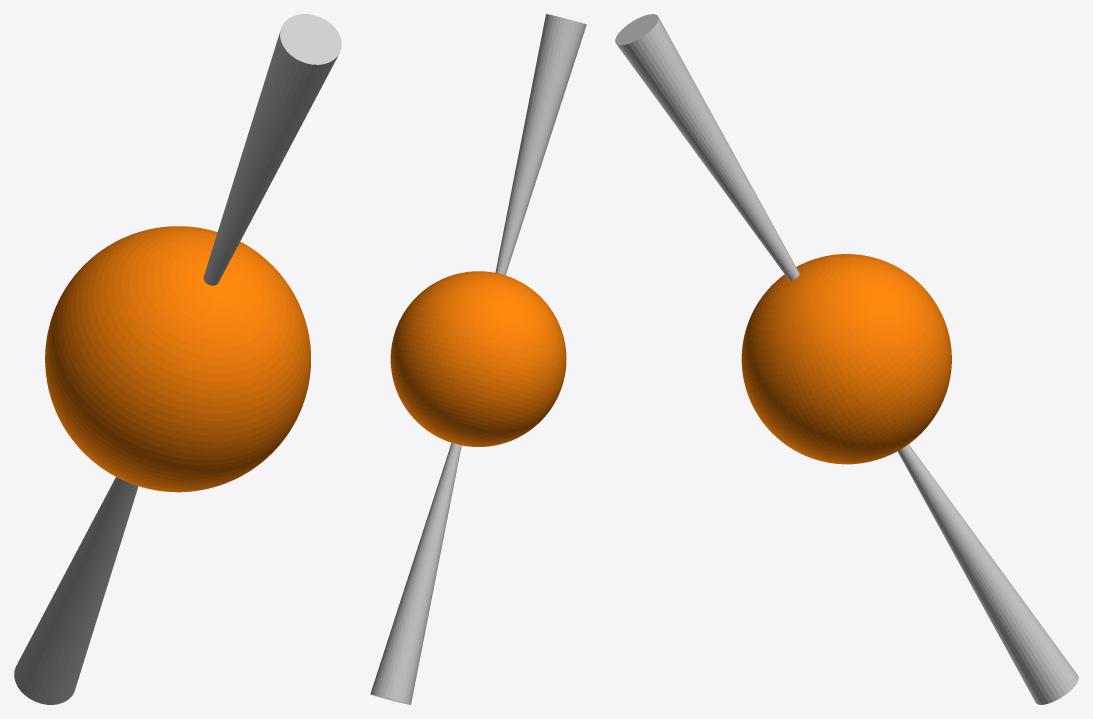
File: Pulsar Active.obj
The picture shows the model from 3 angles, left to right: view 1: azimuth 30°, elevation 25°; view 2: azimuth 150°, elevation 25°; view 3: azimuth 270°, elevation 25°; orthographic projection. The views are drawn at different scales.
Visible parts, largest first — view 1: Sphere; view 2: Sphere; view 3: Sphere.
Boxes of the visible parts, left/top/right/bottom form: Sphere: left=14, top=14, right=341, bottom=704; Sphere: left=370, top=14, right=586, bottom=704; Sphere: left=615, top=14, right=1078, bottom=704.
Bounding box in the file's own units: 1 × 3.58 × 2.21.
